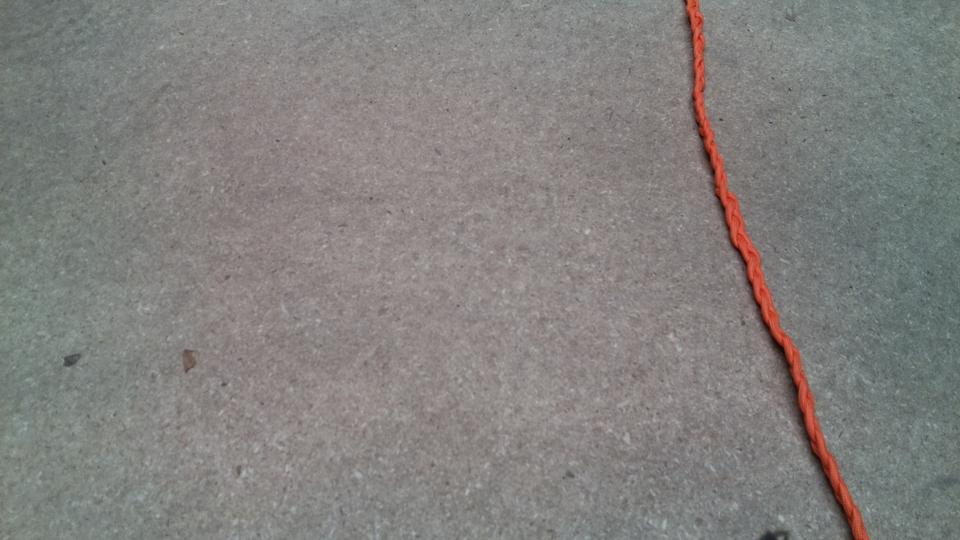rope: (681, 1, 875, 539)
